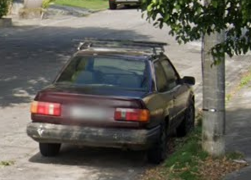car: (29, 39, 195, 169)
